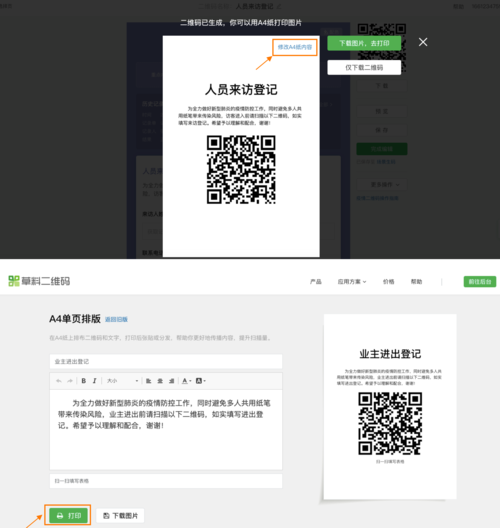QRCode: (201, 133, 288, 209), (355, 388, 431, 459)
